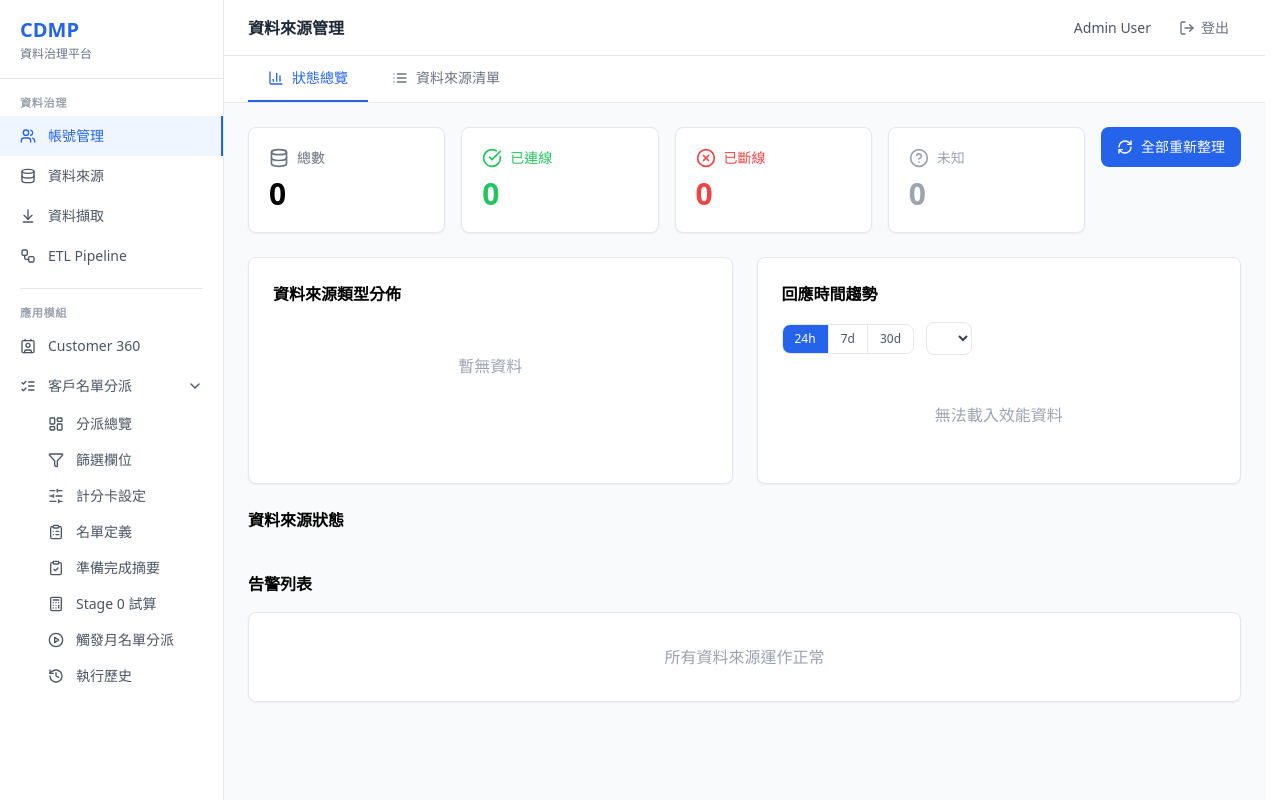
Test case: DatasourceListPage › 刪除資料來源 › should remove item from list after successful deletion
This screenshot has width=1280, height=800.
Click the tab with test id "tab-list" at (446, 79), box x1=372 y1=56 x2=520 y2=102
Wait 1350 ms
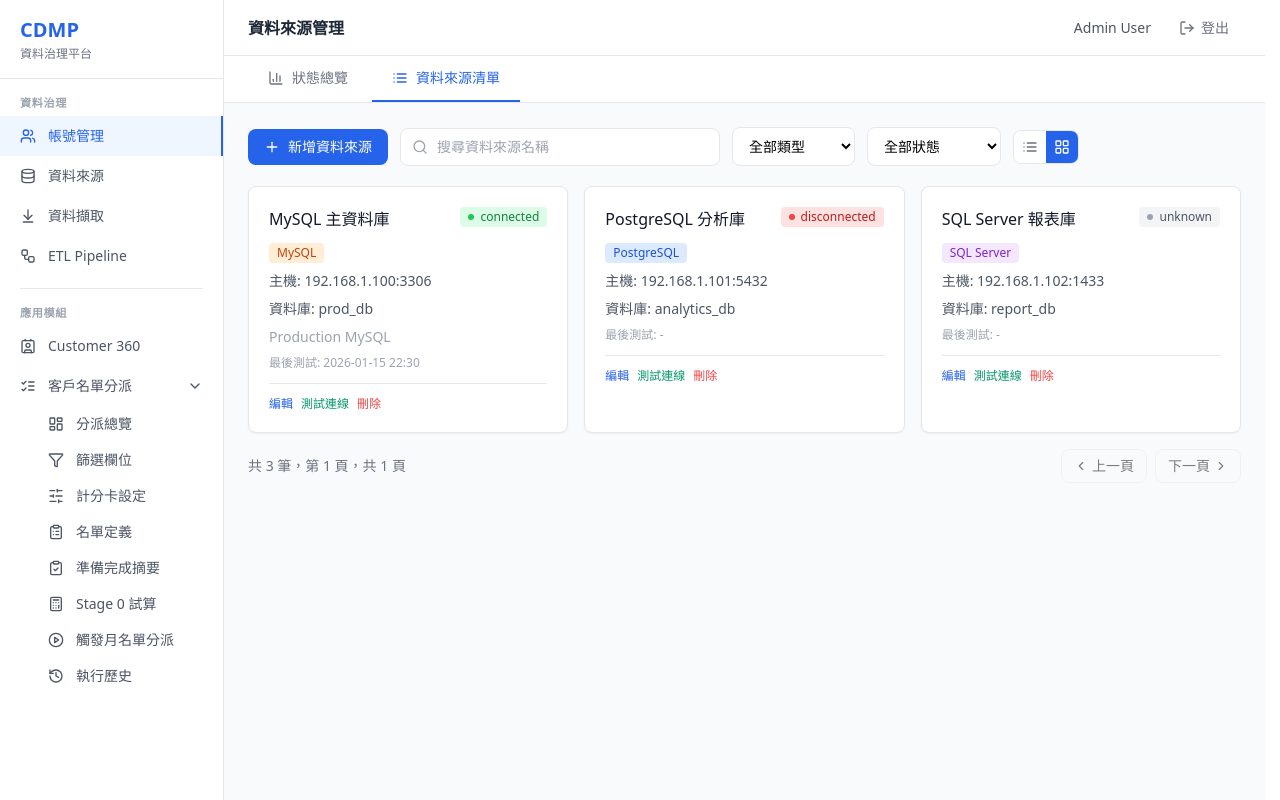
Expected: the heading "MySQL 主資料庫" is shown, x1=269 y1=207 x2=398 y2=231
Click the button "刪除" below "2026-01-15 22:30" at (369, 404), box x1=357 y1=396 x2=381 y2=412
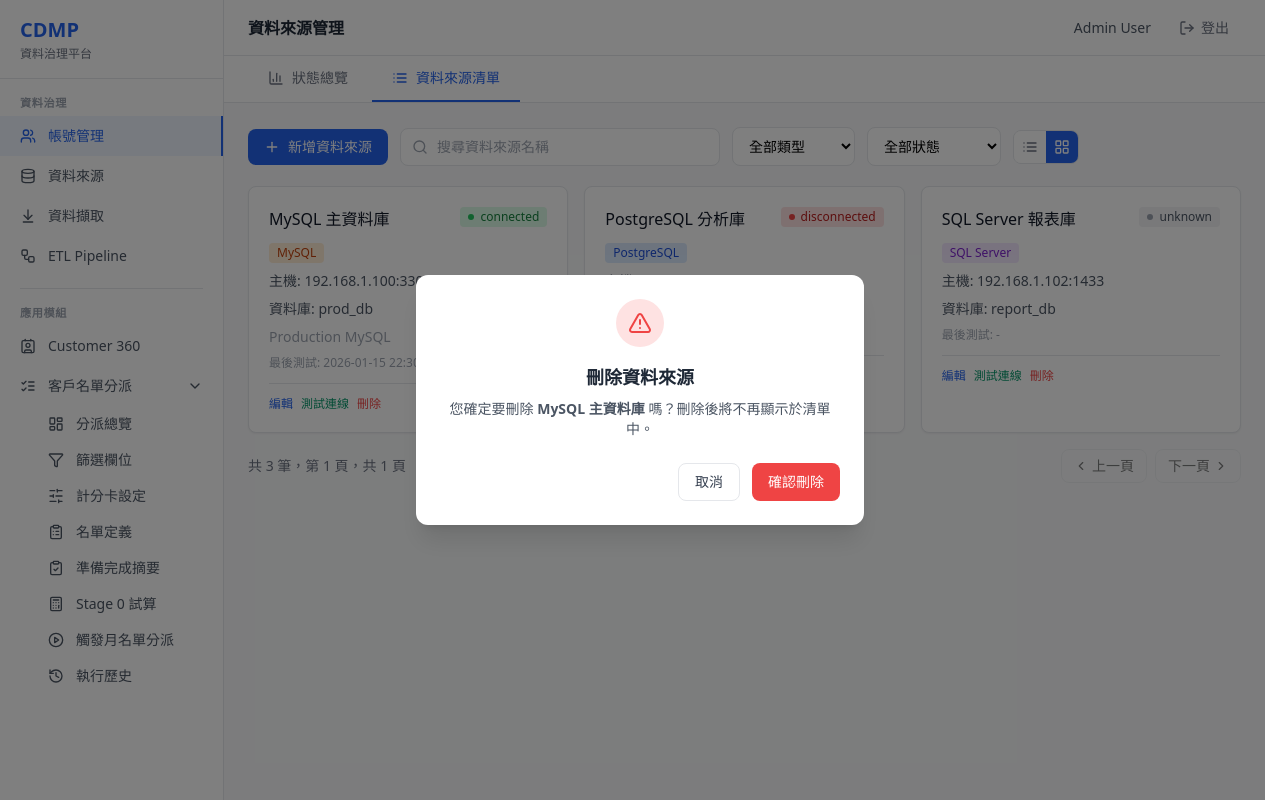
Click the button "確認刪除" at (796, 482), box x1=752 y1=463 x2=840 y2=501
Wait 1000 ms
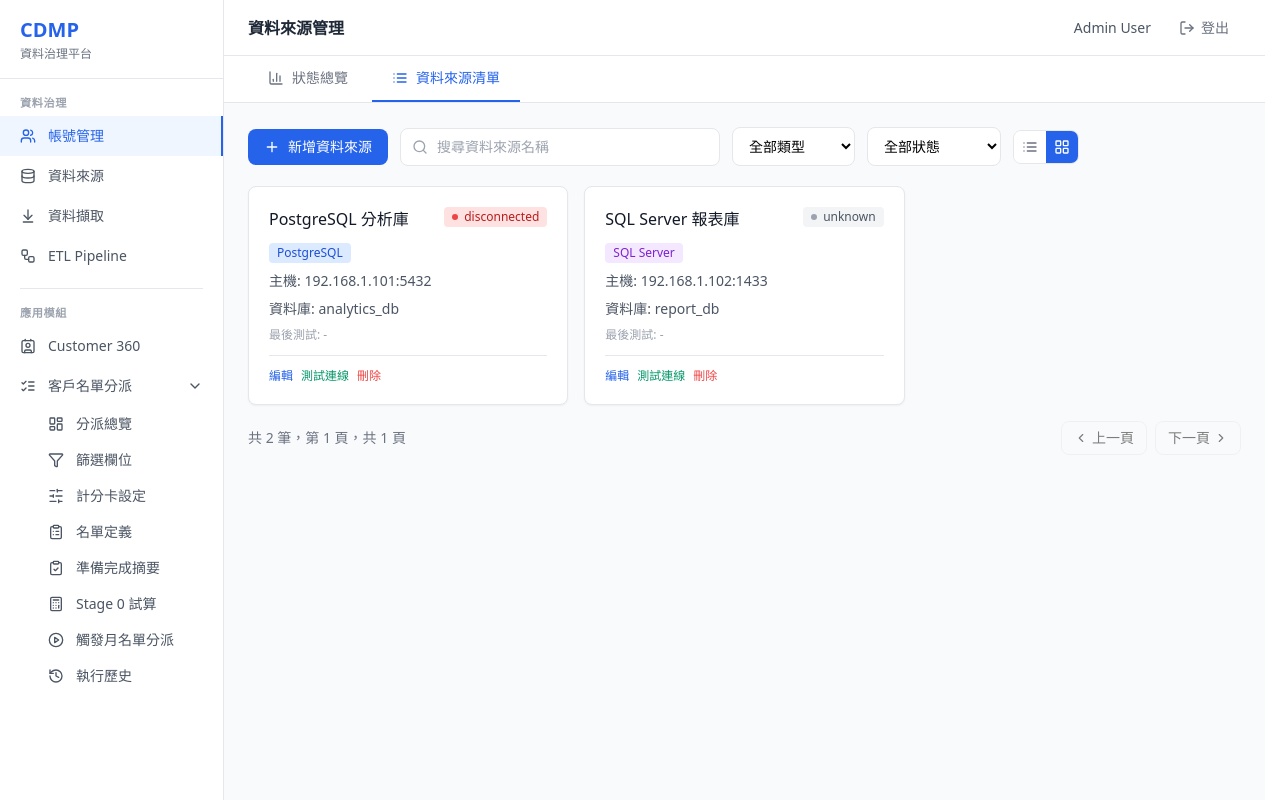
Expected: the heading "MySQL 主資料庫" is gone
